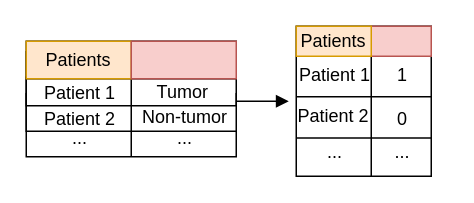
This 474x203 diagram has some shape labels left out. Each missing label, with the centre of its shape:
"Category" belongs at point (183, 59).
"Label" belongs at point (400, 40).
